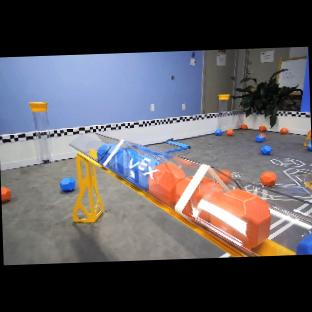V5_BLUE: (107, 148, 160, 188), (97, 144, 117, 164), (296, 233, 312, 255), (60, 177, 75, 192), (260, 145, 272, 155), (256, 135, 264, 143), (215, 129, 222, 136), (307, 146, 312, 151)
V5_RED: (182, 177, 271, 248), (148, 163, 193, 207), (260, 171, 277, 187), (218, 170, 232, 185), (1, 187, 11, 203), (258, 133, 266, 140), (280, 128, 288, 134), (226, 130, 234, 136), (259, 126, 266, 132), (241, 124, 248, 129), (308, 130, 311, 134)
blueingoal: (107, 147, 159, 190), (96, 143, 117, 164), (296, 231, 312, 255)
redingoal: (182, 177, 271, 248), (148, 164, 194, 208)
